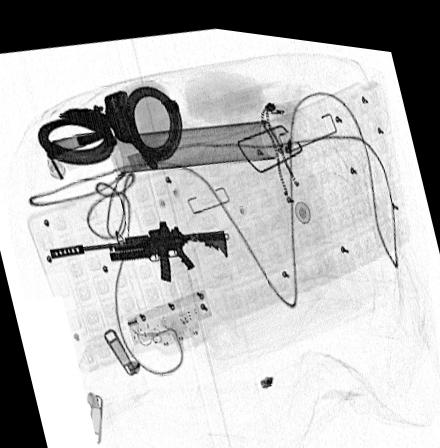Bullet: (44, 127, 107, 157)
Gun: (48, 214, 227, 275)
HandCuffs: (35, 77, 181, 166)
